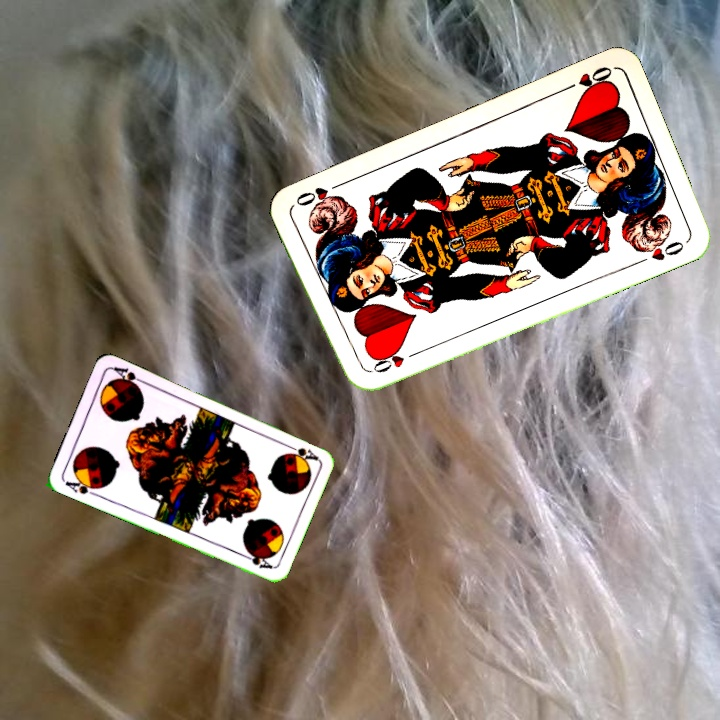HO: (559, 62, 615, 97), (361, 344, 419, 376)
SA: (61, 474, 102, 499), (281, 440, 320, 464)
